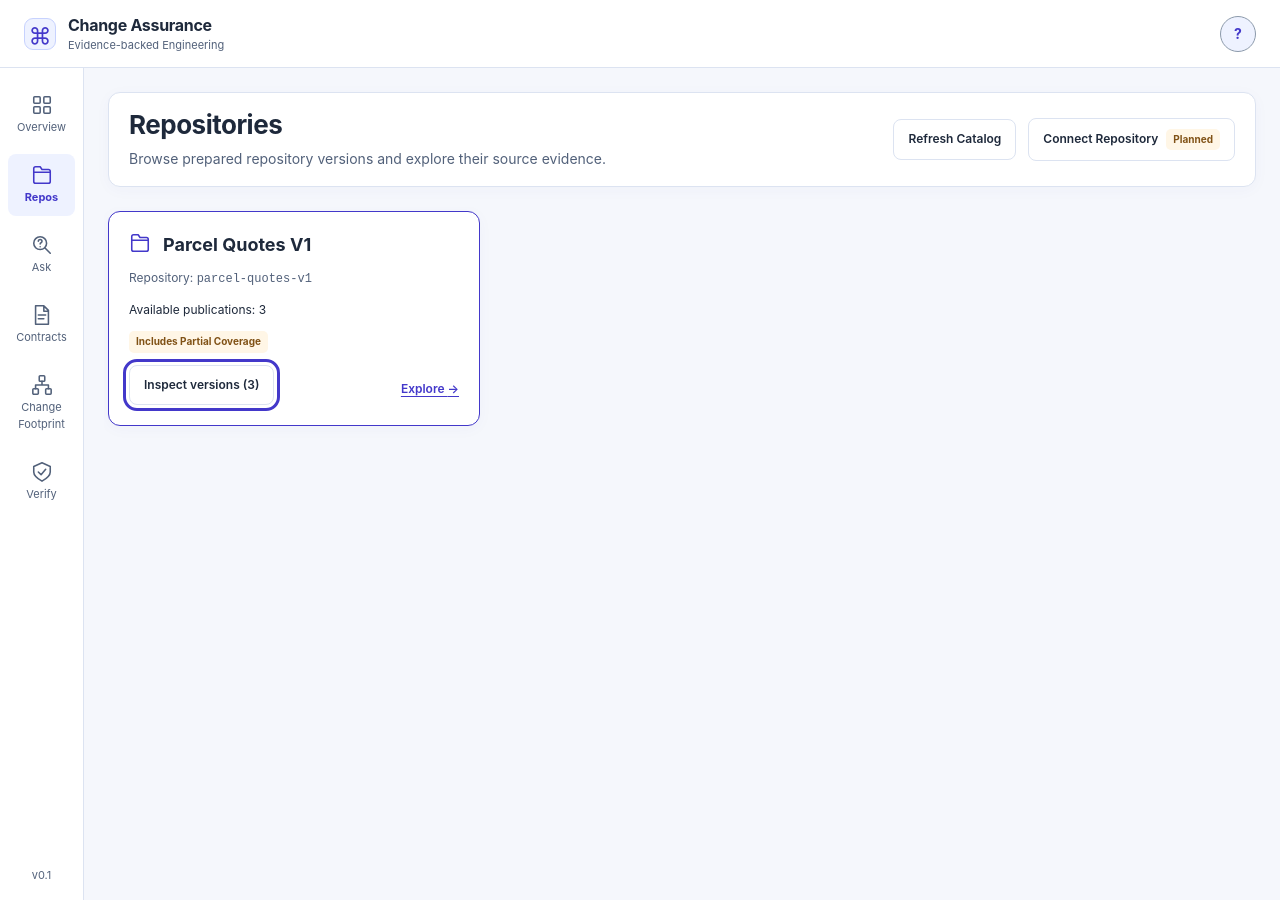
Test: opens Explore for a repository without implicitly choosing any version, including a previously selected one
Press Enter
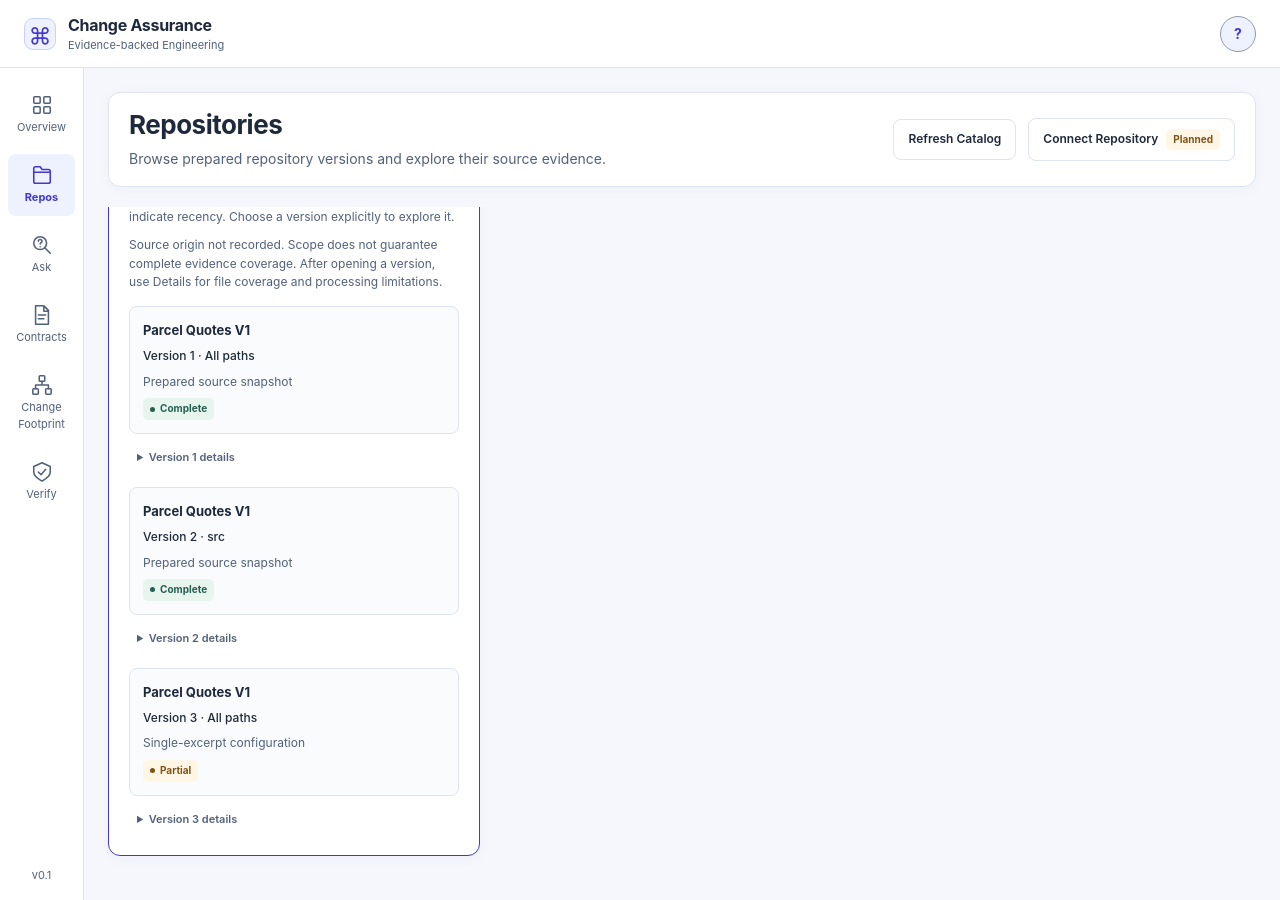
Click the heading "Version 2 details" at (193, 638), box [149,631,237,645]
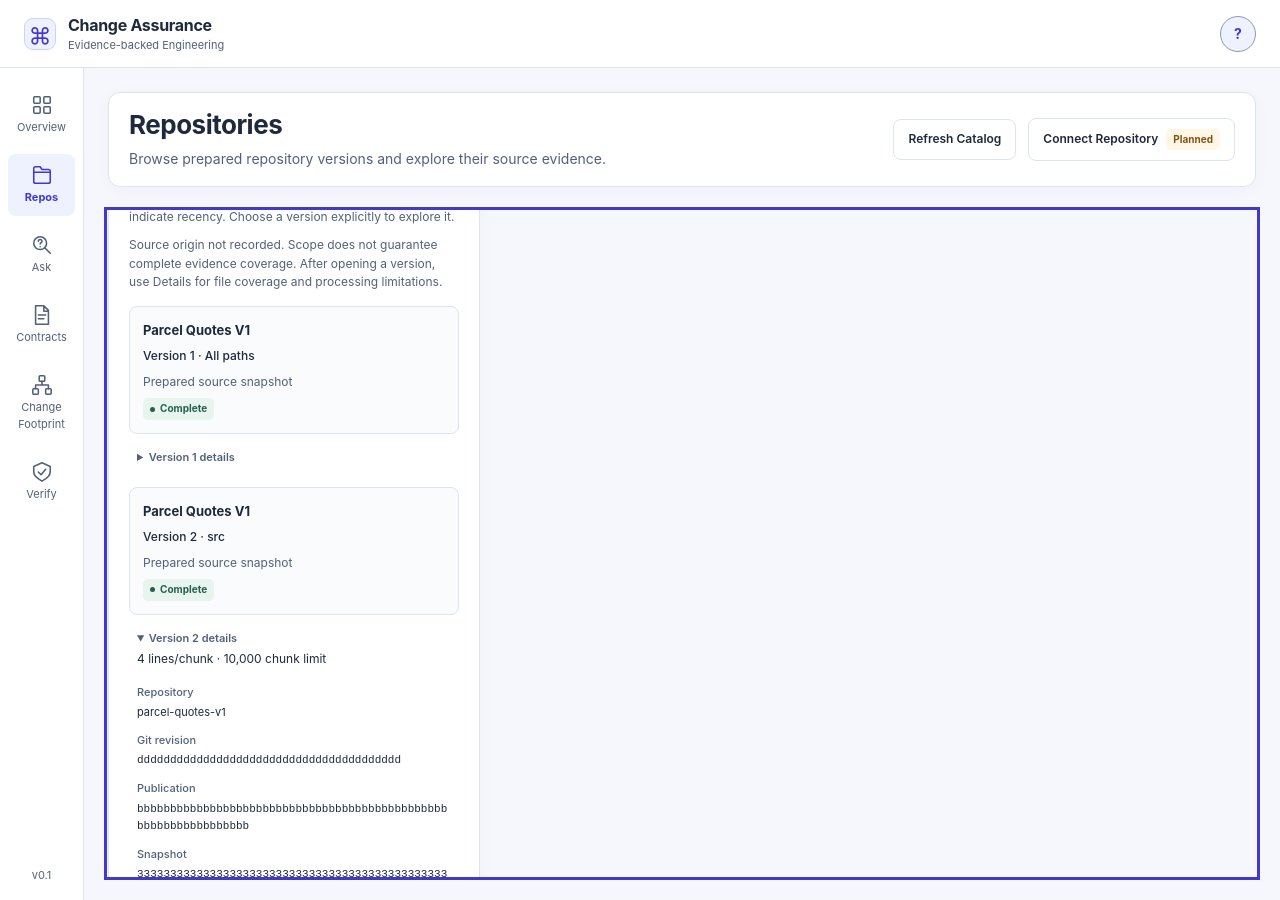
Click the button named "Open parcel-quotes-v1, version 2" at (196, 511), box [129,487,459,615]
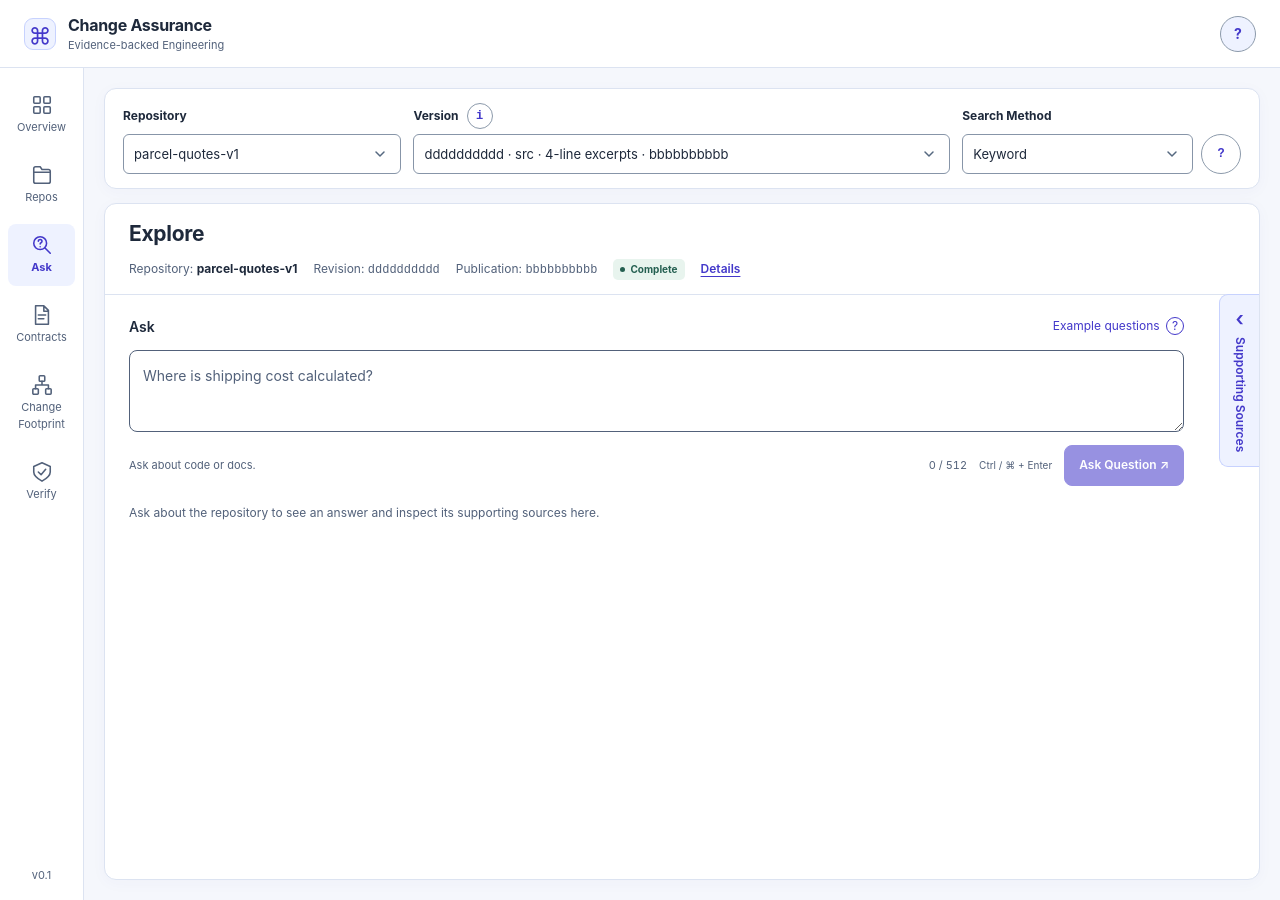
Now the text box labelled "Ask" is enabled, box [129,350,1184,432]
Click the link named "Repositories" at (42, 184), box [25,164,58,204]
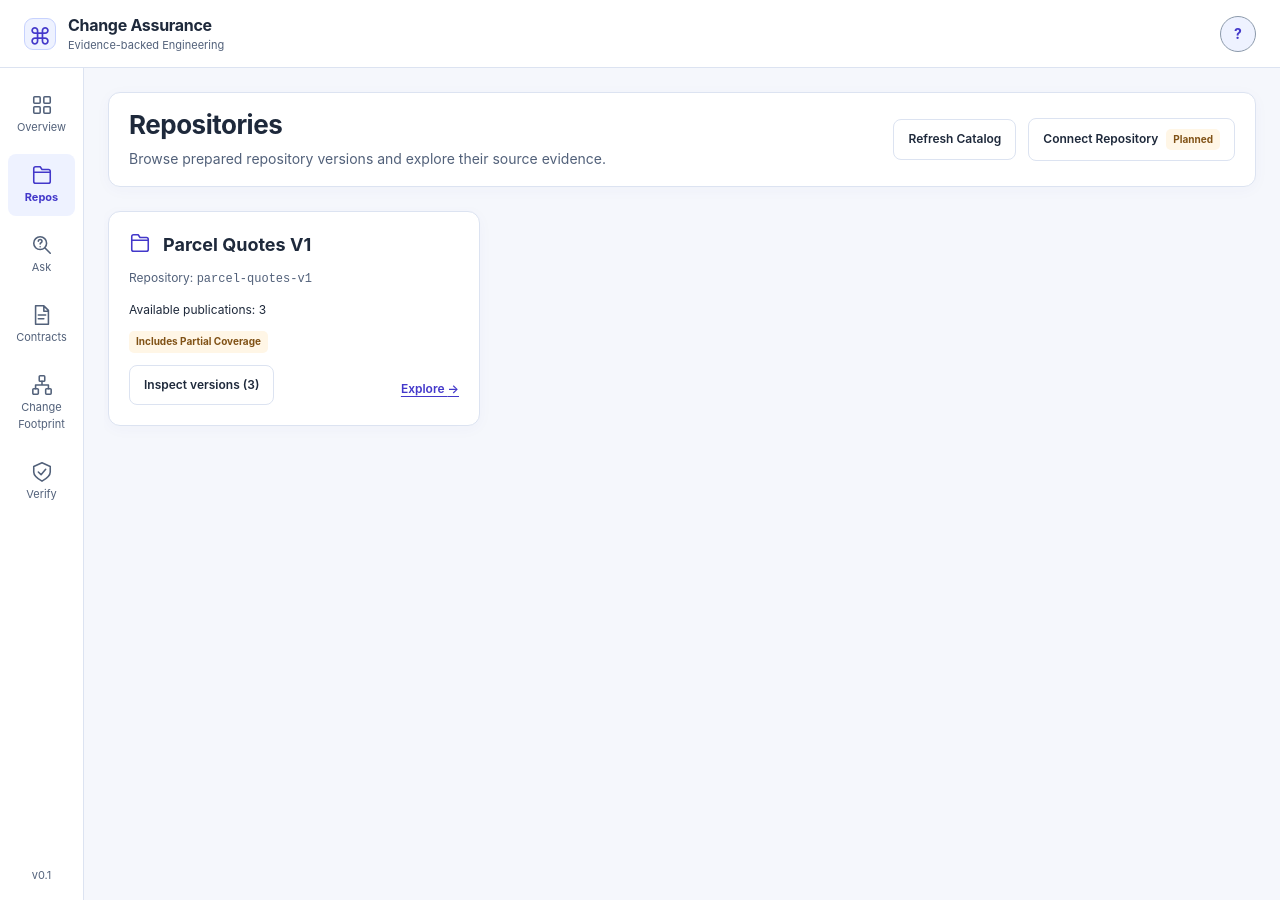
Click the button "Explore →" at (430, 385), box [401,372,459,398]
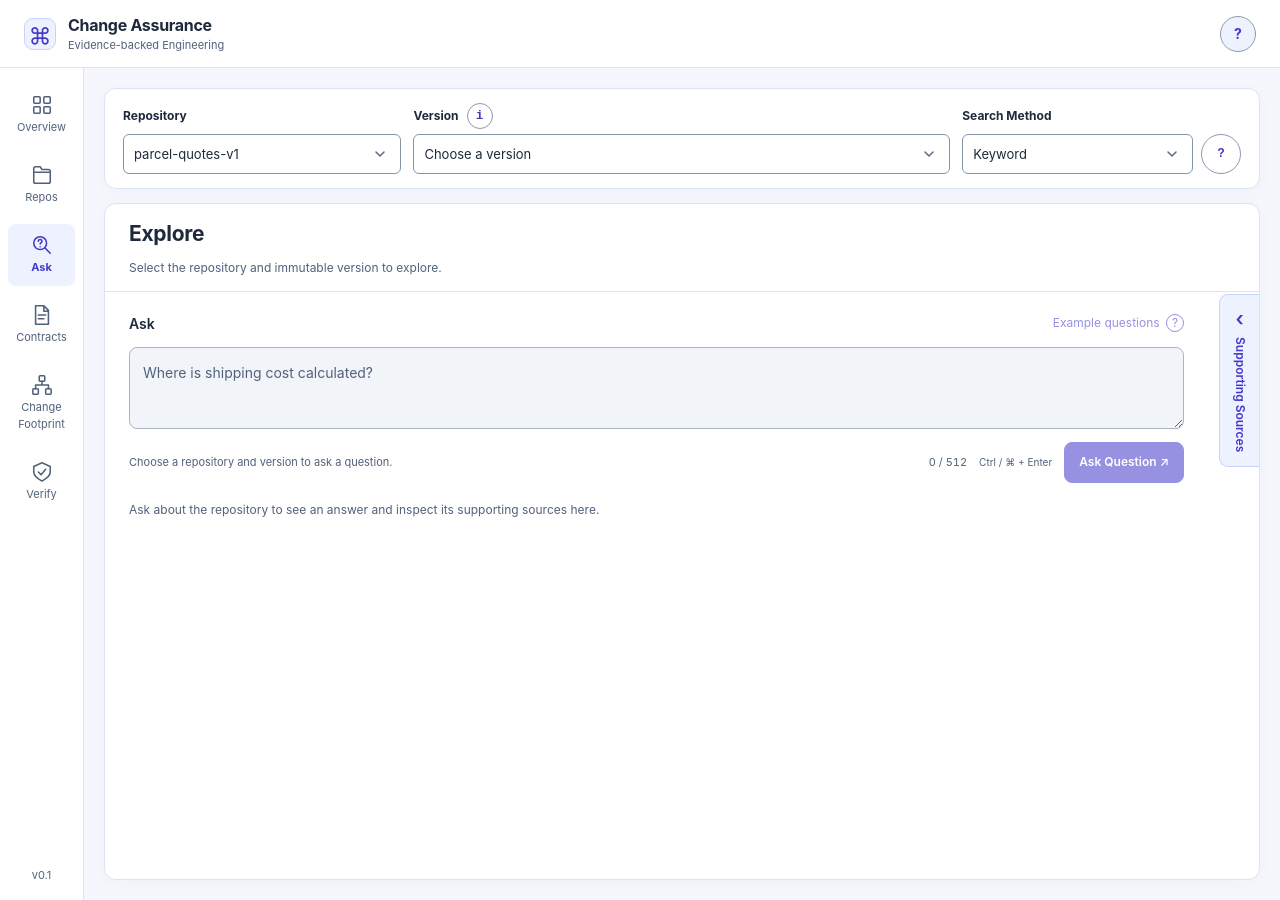
Now the dropdown labelled "Repository" shows "parcel-quotes-v1", box [123,134,401,174]
Now the dropdown labelled "Version" shows "Choose a version", box [413,134,950,174]
Now the text box labelled "Ask" is disabled, box [129,347,1184,429]
